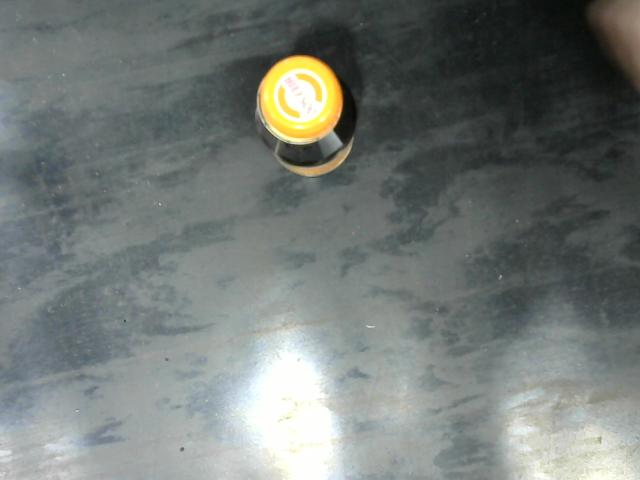glass: (255, 55, 358, 178)
